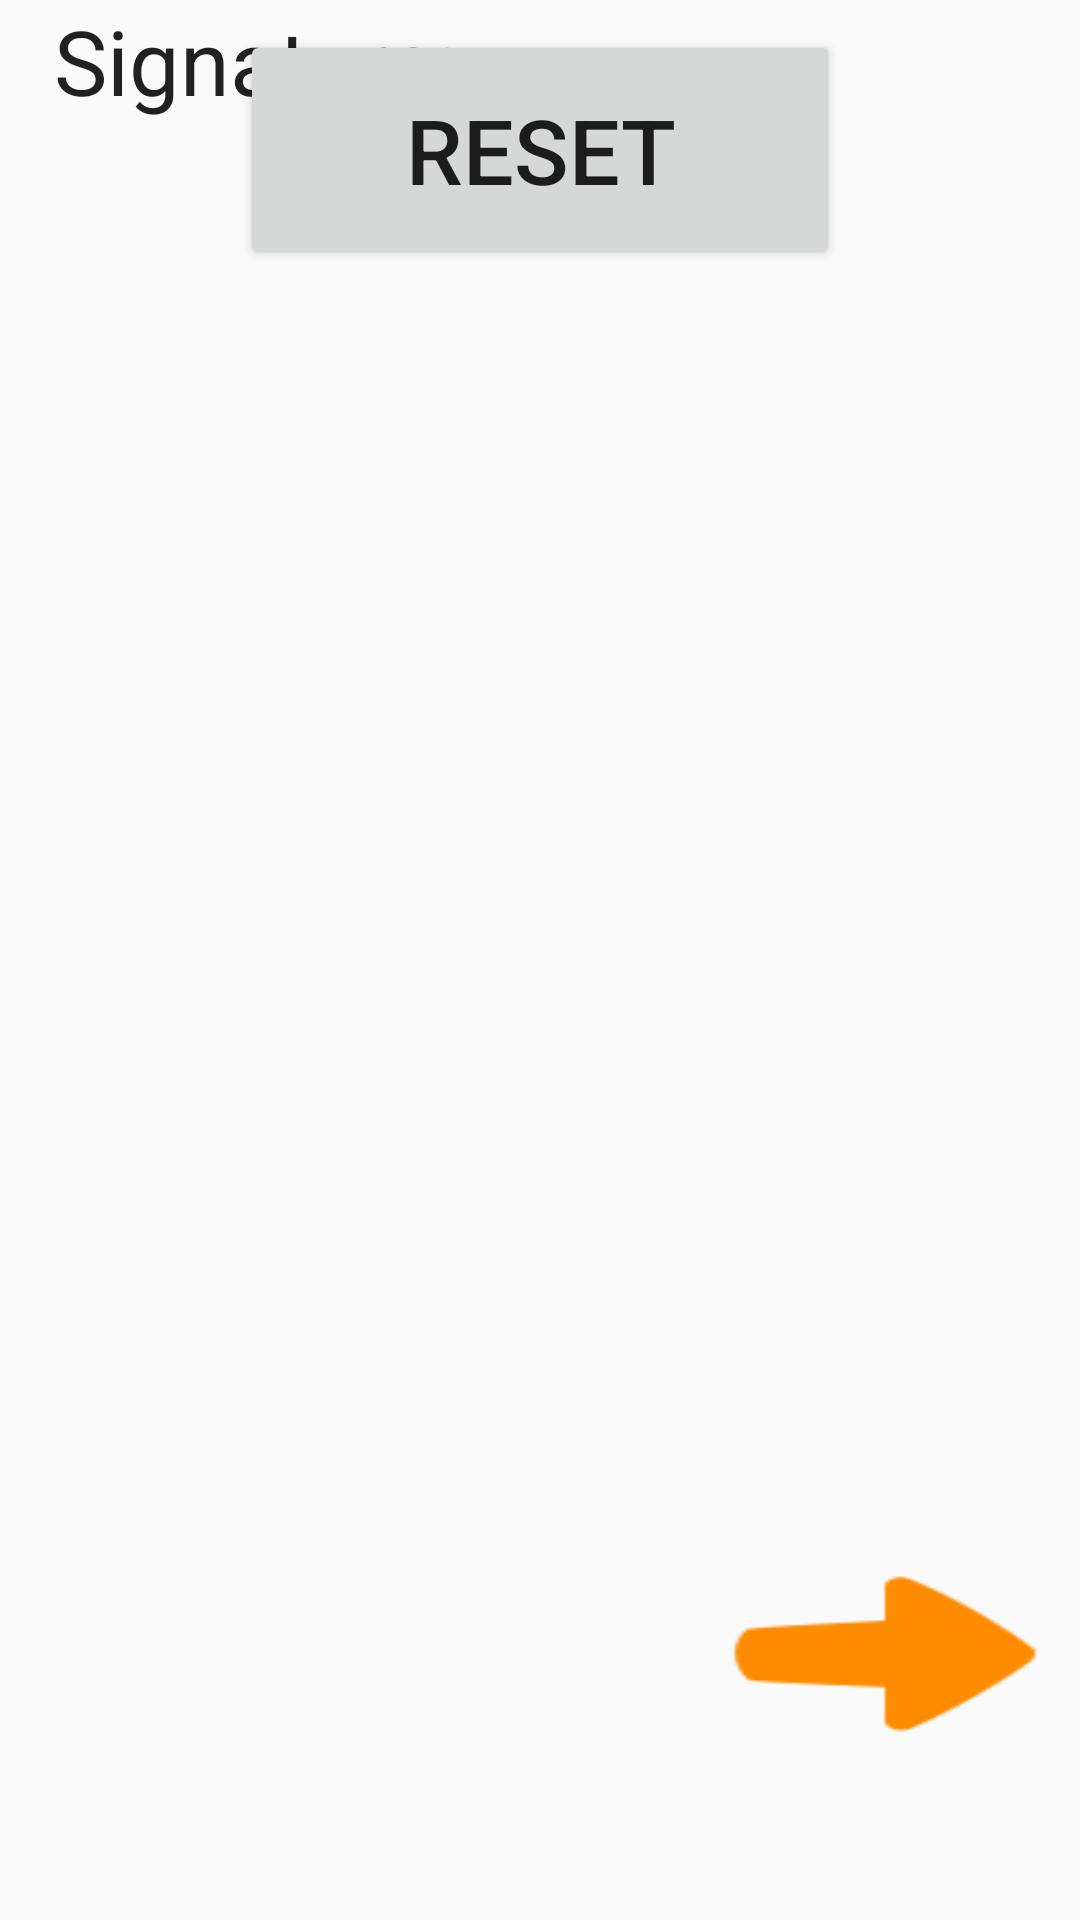

Locate icon controls on the screen. Image size 1080x1920, boxes as (x1, y1, x2, y2).
right: (734, 1576, 1036, 1732)
